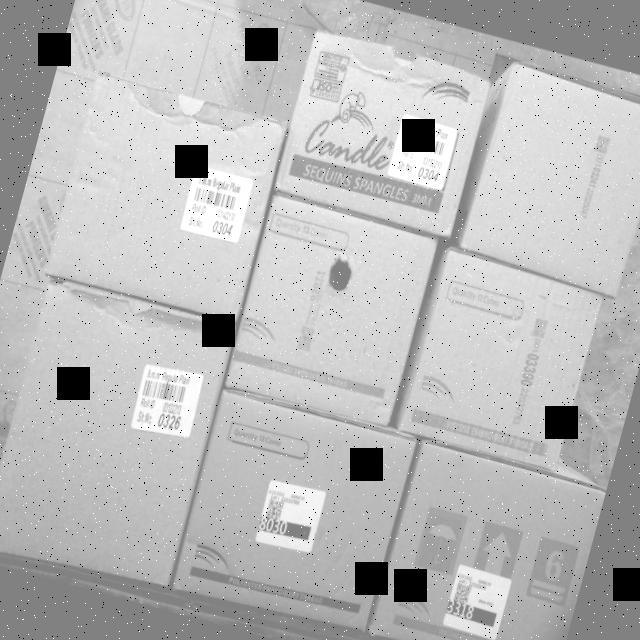box: (0, 277, 238, 600), (170, 388, 421, 640), (45, 75, 288, 327), (223, 195, 443, 432), (383, 248, 607, 474), (271, 28, 492, 236), (461, 59, 640, 295)
